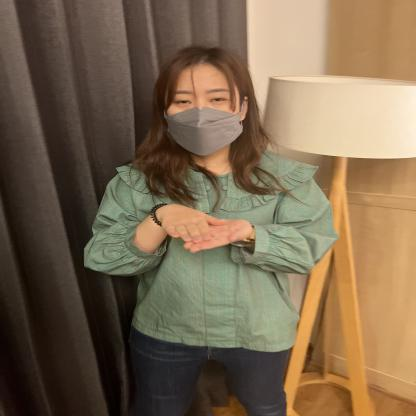Love: (61, 191, 389, 305)
